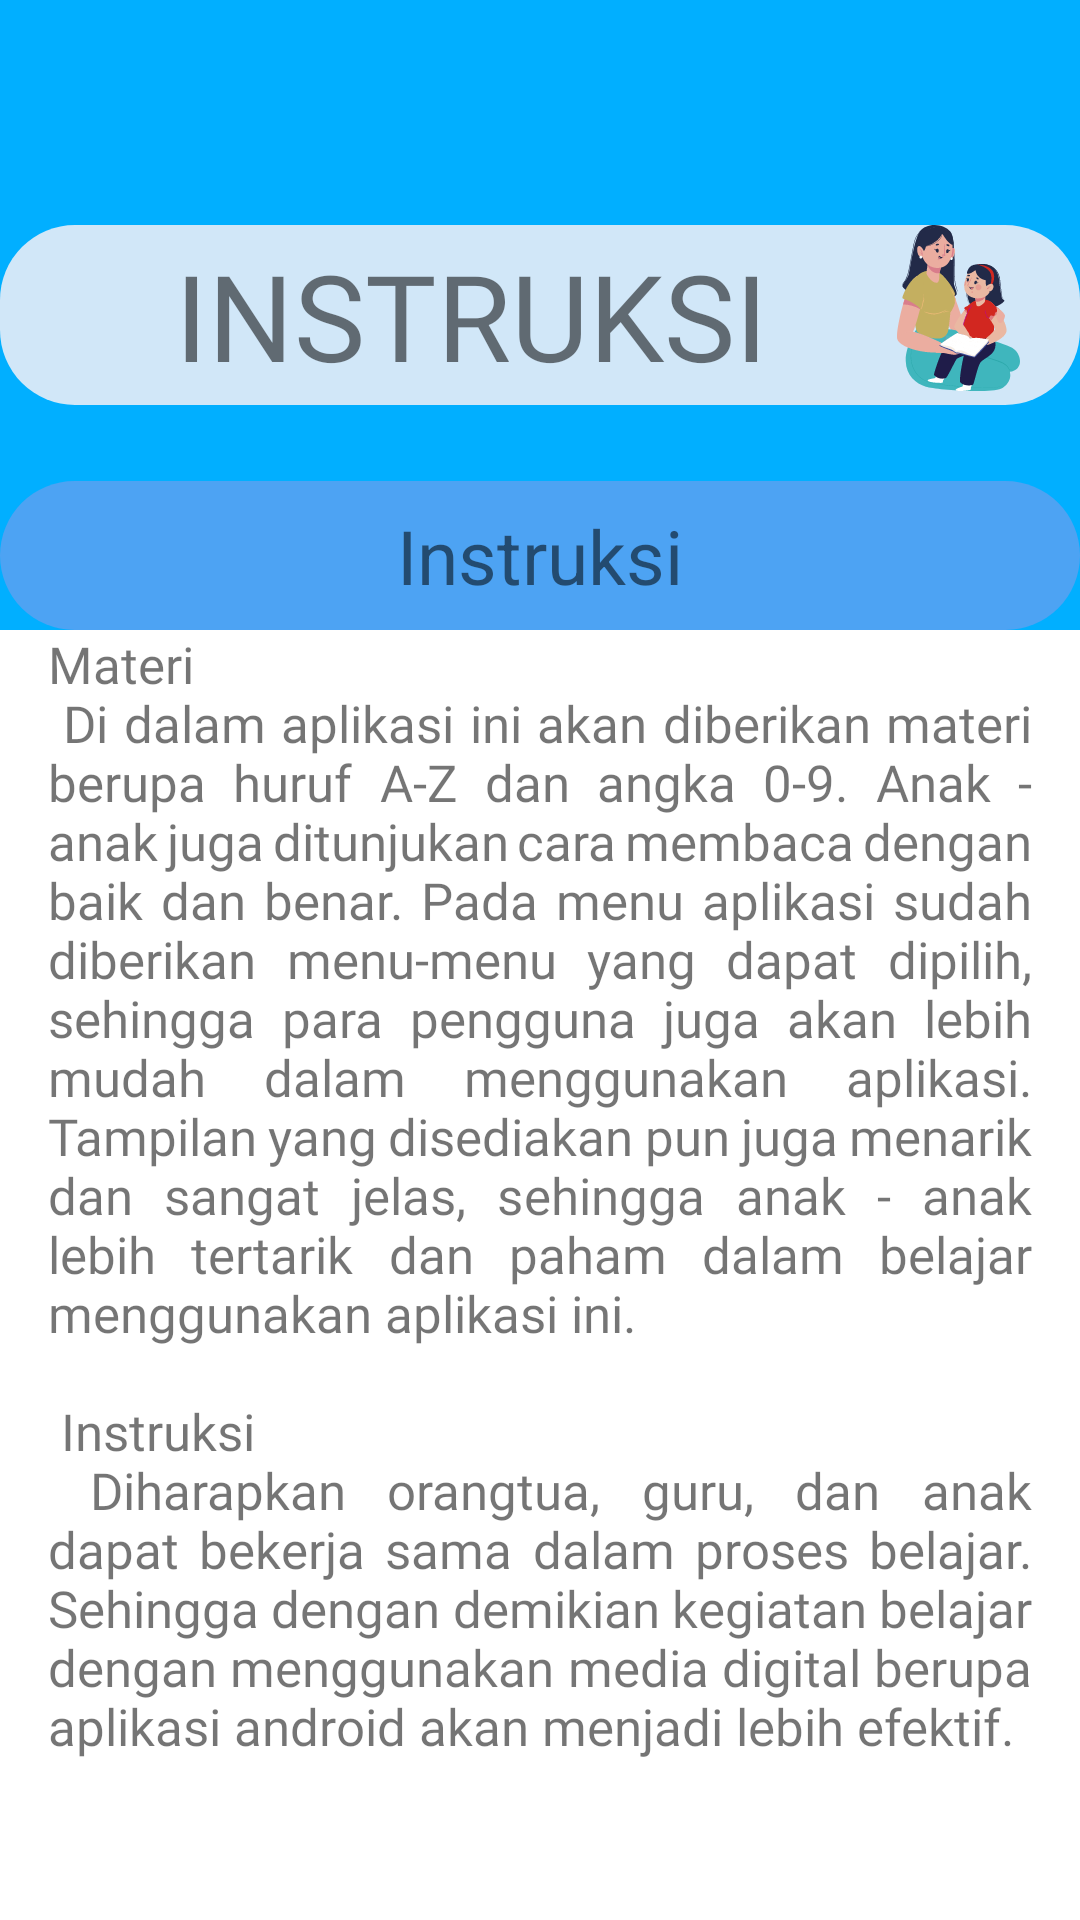

Icons on this 1080×1920 Android screen, each with the point to tap as point (x, y):
panduanortukecil: point (958, 308)
